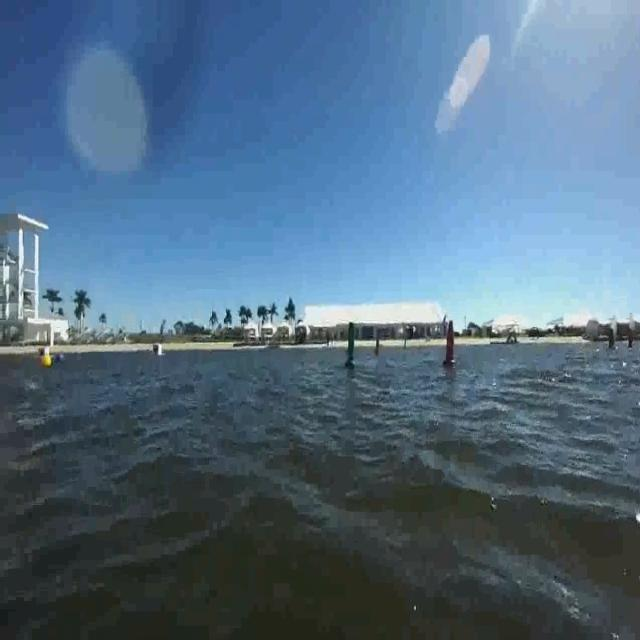green-column-buoy: (344, 320, 360, 369)
red-column-buoy: (443, 320, 459, 369)
yellow-duck: (41, 352, 52, 369)
